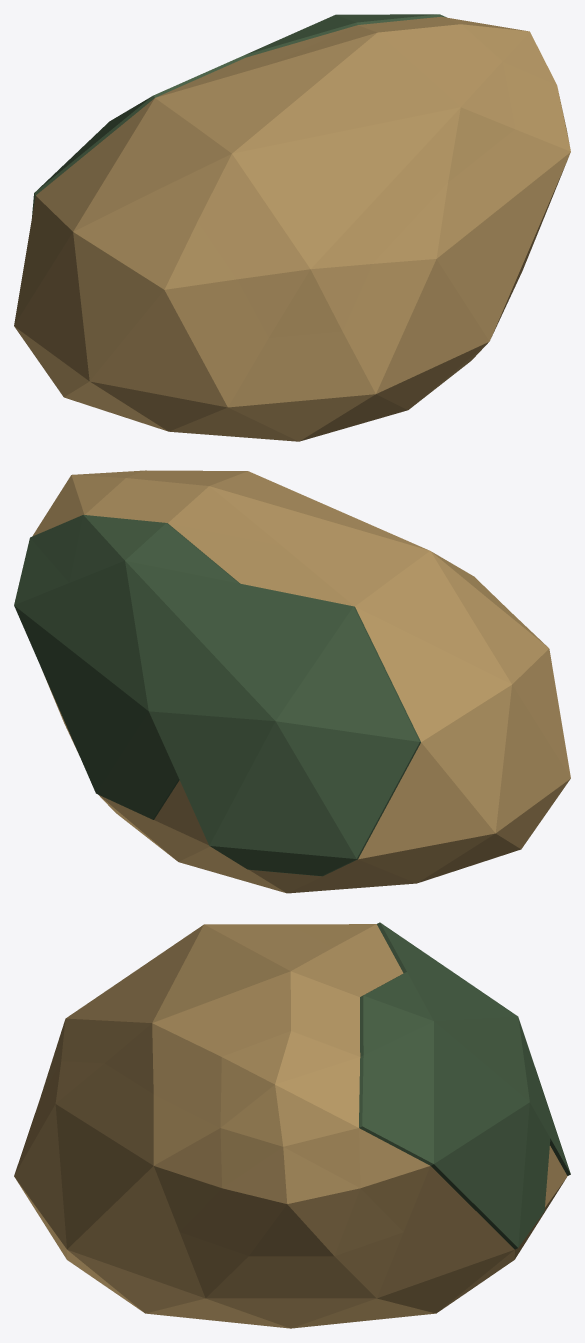
Rendered from MossStoneN.fbx.
3 views of the same model, one above another, from view 1: azimuth 30°, elevation 25°; view 2: azimuth 150°, elevation 25°; view 3: azimuth 270°, elevation 25° (orthographic). The views are drawn at different scales.
Visible parts, largest first — view 1: MossStoneN; view 2: MossStoneN; view 3: MossStoneN.
Part boxes in pixels (x1=…): MossStoneN: x1=14, y1=14, x2=570, y2=441; MossStoneN: x1=14, y1=470, x2=570, y2=893; MossStoneN: x1=14, y1=922, x2=570, y2=1328.
Size of the model in its own units: 1084 by 595 by 918.
